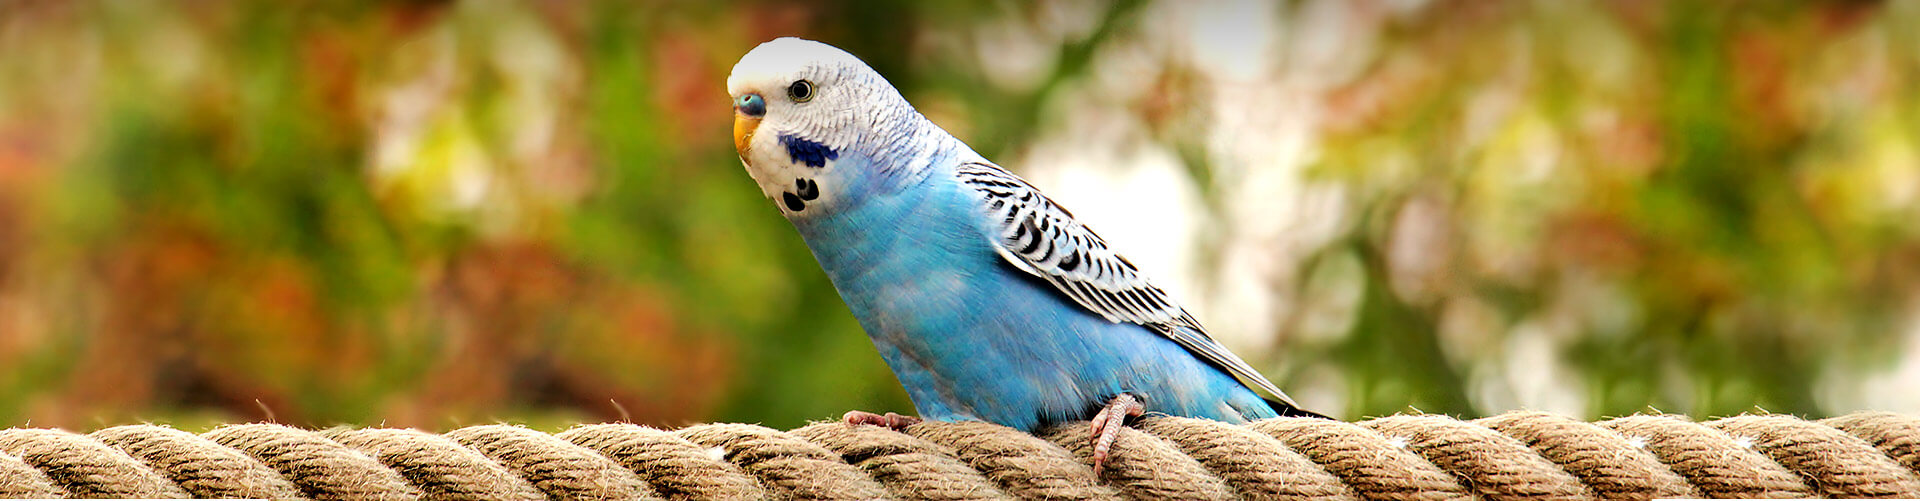budgie: (721, 36, 1313, 462)
